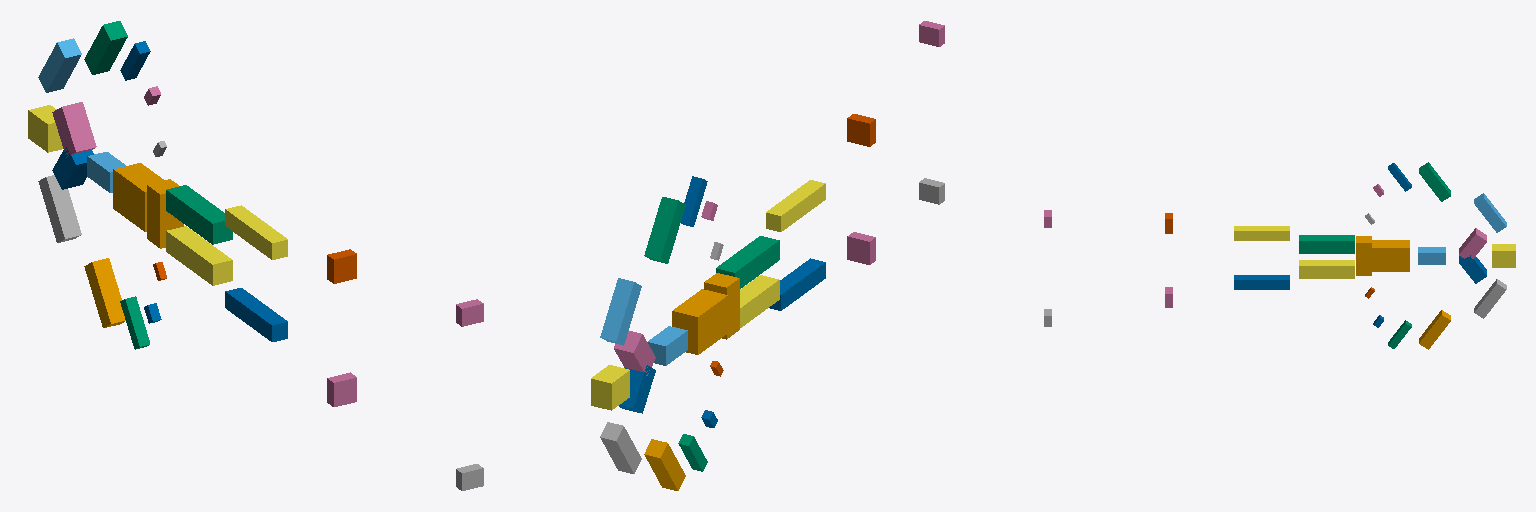
--- Render facts (derived) ---
Views: 3 orthographic renders of the robot side by side, from view 1: azimuth 30°, elevation 25°; view 2: azimuth 150°, elevation 25°; view 3: azimuth 270°, elevation 25°.
Robot: human_model — 40 links, 39 joints (39 revolute); root link human_model/pelvis_link; default pose: every joint at zero.
Links seen in each view (by area): view 1: human_model/thigh_left_link, human_model/thigh_right_link, human_model/abdomen_link, human_model/shin_right_link, human_model/shin_left_link, human_model/bicep_left_link, human_model/bicep_midjoint_left_link, human_model/scapula_right_link, human_model/pelvis_link, human_model/bicep_midjoint_right_link, human_model/bicep_right_link, human_model/head_link (+8 smaller); view 2: human_model/abdomen_link, human_model/thigh_right_link, human_model/shin_right_link, human_model/bicep_midjoint_right_link, human_model/bicep_right_link, human_model/head_link, human_model/shin_left_link, human_model/thigh_left_link, human_model/bicep_midjoint_left_link, human_model/bicep_left_link, human_model/pelvis_link, human_model/spine_link (+8 smaller); view 3: human_model/abdomen_link, human_model/thigh_left_link, human_model/thigh_right_link, human_model/shin_left_link, human_model/shin_right_link, human_model/pelvis_link, human_model/bicep_midjoint_left_link, human_model/bicep_midjoint_right_link, human_model/bicep_left_link, human_model/bicep_right_link, human_model/head_link.
Link boxes in pixels (x1,y1,x2,y2): human_model/thigh_left_link: [166, 226, 232, 285]; human_model/thigh_right_link: [166, 185, 232, 244]; human_model/abdomen_link: [113, 163, 163, 231]; human_model/shin_right_link: [225, 205, 287, 259]; human_model/shin_left_link: [225, 288, 287, 341]; human_model/bicep_left_link: [84, 258, 125, 327]; human_model/bicep_midjoint_left_link: [38, 175, 81, 242]; human_model/scapula_right_link: [52, 102, 96, 157]; human_model/pelvis_link: [147, 179, 183, 248]; human_model/bicep_midjoint_right_link: [38, 38, 81, 92]; human_model/bicep_right_link: [84, 21, 127, 74]; human_model/head_link: [28, 105, 62, 152]; human_model/abdomen_link: [672, 289, 727, 354]; human_model/thigh_right_link: [716, 236, 779, 288]; human_model/shin_right_link: [766, 180, 825, 231]; human_model/bicep_midjoint_right_link: [600, 278, 641, 345]; human_model/bicep_right_link: [644, 197, 685, 263]; human_model/head_link: [591, 365, 629, 410]; human_model/shin_left_link: [769, 258, 825, 310]; human_model/thigh_left_link: [740, 275, 779, 327]; human_model/bicep_midjoint_left_link: [600, 422, 641, 473]; human_model/bicep_left_link: [644, 439, 685, 490]; human_model/pelvis_link: [704, 273, 739, 339]; human_model/spine_link: [648, 326, 687, 365]; human_model/abdomen_link: [1372, 240, 1409, 271]; human_model/thigh_left_link: [1299, 260, 1354, 278]; human_model/thigh_right_link: [1299, 235, 1354, 253]; human_model/shin_left_link: [1234, 275, 1289, 289]; human_model/shin_right_link: [1234, 226, 1289, 240]; human_model/pelvis_link: [1356, 236, 1371, 275]; human_model/bicep_midjoint_left_link: [1474, 279, 1506, 318]; human_model/bicep_midjoint_right_link: [1474, 193, 1506, 232]; human_model/bicep_left_link: [1419, 310, 1450, 349]; human_model/bicep_right_link: [1419, 162, 1450, 201]; human_model/head_link: [1492, 244, 1515, 267].
Size in the robot's own frame: 0.3087 by 3.13 by 1.35 metres.
Geometry: primitives only (box / cylinder / sphere), no mesh files.

The robot description file, URDF, robot "human_model":
<?xml version="1.0" ?>
<robot name="human_model">
    <!--<self_collide>true</self_collide>-->
    <!--<static>false</static>-->
    <!--<pose>0 0 2 1.5708 0 0</pose>-->
    <!--<pose>0 0 2 0 -1.5708 0</pose>-->
    <link name ="human_model/pelvis_link">
        <!--<pose>0 0 0 0 0 0</pose>-->
        <!--<inertial>
            <origin
                    xyz="0.0 0.0 0.0"
                    rpy="0 0 0" />
            <mass value="5.6154"/>
        </inertial>-->
        <visual name="visual">
            <origin
                    xyz="0.0 0.0 0.0"
                    rpy="0 0 0" />
            <geometry>
                <box
                        size="0.1088 0.1088 0.23936"/>

            </geometry>
        </visual>
        <collision name="collision">
            <origin
                    xyz="0.0 0.0 0.0"
                    rpy="0 0 0" />
            <geometry>
                <box
                        size="0.1088 0.1088 0.23936"/>

            </geometry>
        </collision>
    </link>

    <!-- Left Leg -->
    <link name ="human_model/thigh_left_rotz_link">
    </link>

    <link name ="human_model/thigh_left_roty_link">
    </link>

    <link name ="human_model/thigh_left_link">
        <!--<pose>0.0 0.0 0.0 0.0 0.0 0.0</pose>-->
        <!--<inertial>
            <mass value="6.5709"/>
            <origin
                    xyz="0.0 -0.18605 0.0"
                    rpy="0 0 0" />
        </inertial>-->
        <visual name="visual">
            <origin
                    xyz="0.0 -0.18605 0.0"
                    rpy="0 0 0" />
            <geometry>
                <box size="0.093025 0.3721 0.093025"/>
                <!--size>0.2500*0.3721 1.0000*0.3721 0.2500*0.3721</size-->
            </geometry>
        </visual>
        <collision name="collision">
            <origin
                    xyz="0.0 -0.18605 0.0"
                    rpy="0 0 0" />
            <geometry>
                <box size="0.093025 0.3721 0.093025"/>
                <!--size>0.2500*0.3721 1.0000*0.3721 0.2500*0.3721</size-->
            </geometry>
        </collision>
    </link>

    <link name ="human_model/shin_left_link">
        <!--<pose>0.01649408 -0.42984016 -0.09072832 0.0 0.0 0.0</pose>-->
        <!--<inertial>
            <mass value="1.7738"/>
            <origin
                    xyz="0.0 -0.18685 0.0"
                    rpy="0 0 0" />
        </inertial>-->
        <visual name="visual">
            <origin
                    xyz="0.0 -0.18685 0.0"
                    rpy="0 0 0" />
            <geometry>
                <box size="0.07474 0.3737 0.07474"/>
                <!--size>0.2000*0.3737 1.0000*0.3737 0.2000*0.3737</size-->
            </geometry>
        </visual>
        <collision name="collision">
            <origin
                    xyz="0.0 -0.18685 0.0"
                    rpy="0 0 0" />
            <geometry>
                <box size="0.07474 0.3737 0.07474"/>
                <!--size>0.2000*0.3737 1.0000*0.3737 0.2000*0.3737</size-->
            </geometry>
        </collision>
    </link>

    <link name ="human_model/heel_left_rotz_link">
    </link>

    <link name ="human_model/heel_left_link">
        <!--<pose>0.01649408 -0.80354016 -0.09072832 0.0 0.0 0.0</pose>-->
        <!--<inertial>
            <mass value="0.5831"/>
            <origin
                    xyz="0.0216 0.0 0.0"
                    rpy="0 0 0" />
        </inertial>-->
        <visual name="visual">
            <origin
                    xyz="0.0216 0.0 0.0"
                    rpy="0 0 0" />
            <geometry>
                <box size="0.1080 0.0540 0.1080"/>
                <!--size>1.0000*0.108 0.5000*0.108 1.0000*0.108</size-->
            </geometry>
            <!--<color>1.0 0.5 0.0</color>-->
        </visual>
        <collision name="collision">
            <origin
                    xyz="0.0216 0.0 0.0"
                    rpy="0 0 0" />
            <geometry>
                <box size="0.1080 0.0540 0.1080"/>
                <!--size>1.0000*0.108 0.5000*0.108 1.0000*0.108</size-->
            </geometry>
        </collision>
    </link>

    <link name ="human_model/toe_left_link">
        <!--<pose>0.12649408 -0.80354016 -0.09072832 0.0 0.0 0.0</pose>-->
        <!--<inertial>
            <mass value="0.50"/>
            <origin
                    xyz="0.02 0.0 0.0"
                    rpy="0 0 0" />
        </inertial>-->
        <visual name="visual">
            <origin
                    xyz="0.02 0.0 0.0"
                    rpy="0 0 0" />
            <geometry>
                <box size="0.1000 0.0500 0.0800"/>
                <!--size>1.0000*0.1 0.5000*0.1 0.8000*0.1</size-->
            </geometry>
            <!--<color>1.0 0.5 0.0</color>-->
        </visual>
        <collision name="collision">
            <origin
                    xyz="0.02 0.0 0.0"
                    rpy="0 0 0" />
            <geometry>
                <box size="0.1000 0.0500 0.0800"/>
                <!--size>1.0000*0.1 0.5000*0.1 0.8000*0.1</size-->
            </geometry>
        </collision>
    </link>

    <!-- Right Leg -->
    <link name ="human_model/thigh_right_rotz_link">
        <!--<pose>0.01649408 -0.05774016 0.09072832 0.0 0.0 0.0</pose>-->
    </link>

    <link name ="human_model/thigh_right_roty_link">
    </link>

    <link name ="human_model/thigh_right_link">
        <!--<pose>0.0 0.0 0.0 0.0 0.0 0.0</pose>-->
        <!--<inertial>
            <origin
                    xyz="0.0 -0.18605 0.0"
                    rpy="0 0 0" />
            <mass value="6.5709"/>
        </inertial>-->
        <visual name="visual">
            <origin
                    xyz="0.0 -0.18605 0.0"
                    rpy="0 0 0" />
            <geometry>
                <box size="0.093025 0.3721 0.093025"/>
                <!--size>0.2500*0.3721 1.0000*0.3721 0.2500*0.3721</size-->
            </geometry>
        </visual>
        <collision name="collision">
            <origin
                    xyz="0.0 -0.18605 0.0"
                    rpy="0 0 0" />
            <geometry>
                <box size="0.093025 0.3721 0.093025"/>
                <!--size>0.2500*0.3721 1.0000*0.3721 0.2500*0.3721</size-->
            </geometry>
        </collision>
    </link>

    <link name ="human_model/shin_right_link">
        <!--<pose>0.01649408 -0.42984016 0.09072832 0.0 0.0 0.0</pose>-->
        <!--<inertial>
            <origin
                    xyz="0.0 -0.18685 0.0"
                    rpy="0 0 0" />
            <mass value="1.7738"/>
        </inertial>-->
        <visual name="visual">
            <origin
                    xyz="0.0 -0.18685 0.0"
                    rpy="0 0 0" />
            <geometry>
                <box size="0.07474 0.3737 0.07474"/>
                <!--size>0.2000*0.3737 1.0000*0.3737 0.2000*0.3737</size-->
            </geometry>
        </visual>
        <collision name="collision">
            <origin
                    xyz="0.0 -0.18685 0.0"
                    rpy="0 0 0" />
            <geometry>
                <box size="0.07474 0.3737 0.07474"/>
                <!--size>0.2000*0.3737 1.0000*0.3737 0.2000*0.3737</size-->
            </geometry>
        </collision>
    </link>

    <link name ="human_model/heel_right_rotz_link">
    </link>

    <link name ="human_model/heel_right_link">
        <!--<pose>0.01649408 -0.80354016 0.09072832 0.0 0.0 0.0</pose>-->
        <!--<inertial>
            <mass value="0.5831"/>
            <origin
                    xyz="0.0216 0.0 0.0"
                    rpy="0 0 0" />
        </inertial>-->
        <visual name="visual">
            <origin
                    xyz="0.0216 0.0 0.0"
                    rpy="0 0 0" />
            <geometry>
                <box size="0.1080 0.0540 0.1080"/>
                <!--size>1.0000*0.108 0.5000*0.108 1.0000*0.108</size-->
            </geometry>
            <!--<color>1.0 0.5 0.0</color>-->
        </visual>
        <collision name="collision">
            <origin
                    xyz="0.0 0.0 0.0"
                    rpy="0 0 0" />
            <geometry>
                <box size="0.1080 0.0540 0.1080"/>
                <!--size>1.0000*0.108 0.5000*0.108 1.0000*0.108</size-->
            </geometry>
        </collision>
    </link>

    <link name ="human_model/toe_right_link">
        <!--<pose>0.12649408 -0.80354016 0.09072832 0.0 0.0 0.0</pose>-->
        <!--<inertial>
            <mass value="0.50"/>
            <origin
                    xyz="0.02 0.0 0.0"
                    rpy="0 0 0" />
        </inertial>-->
        <visual name="visual">
            <origin
                    xyz="0.02 0.0 0.0"
                    rpy="0 0 0" />
            <geometry>
                <box size="0.1000 0.0500 0.0800"/>
                <!--size>1.0000*0.1 0.5000*0.1 0.8000*0.1</size-->
            </geometry>
            <!--<color>1.0 0.5 0.0</color>-->
        </visual>
        <collision name="collision">
            <origin
                    xyz="0.02 0.0 0.0"
                    rpy="0 0 0" />
            <geometry>
                <box size="0.1000 0.0500 0.0800"/>
                <!--size>1.0000*0.1 0.5000*0.1 0.8000*0.1</size-->
            </geometry>
        </collision>
    </link>

    <!-- Upper link -->
    <link name ="human_model/abdomen_rotx_link">
    </link>

    <link name ="human_model/abdomen_link">
        <!--<pose>0.0 0.0562 0.0 0.0 0.0 0.0</pose>-->
        <!--<inertial>
            <mass value="4.1846"/>
            <origin
                    xyz="0.0 0.12535 0.0"
                    rpy="0 0 0" />
        </inertial>-->
        <visual name="visual">
            <origin
                    xyz="0.0 0.12535 0.0"
                    rpy="0 0 0" />
            <geometry>
                <box size="0.12535 0.2507 0.17549"/>
                <!--size>0.5000*0.2507 1.0000*0.2507 0.7000*0.2507</size-->
            </geometry>
        </visual>
        <collision name="collision">
            <origin
                    xyz="0.0 0.12535 0.0"
                    rpy="0 0 0" />
            <geometry>
                <box size="0.12535 0.2507 0.17549"/>
                <!--size>0.5000*0.2507 1.0000*0.2507 0.7000*0.2507</size-->
            </geometry>
        </collision>
    </link>

    <link name ="human_model/spine_link">
        <!--<pose>0.0 0.3069 0.0 0.0 0.0 0.0</pose>-->
        <!--<inertial>
            <mass value="4.8608"/>
            <origin
                    xyz="0.0 0.0908 0.0"
                    rpy="0 0 0" />
        </inertial>-->
        <visual name="visual">
            <origin
                    xyz="0.0 0.0908 0.0"
                    rpy="0 0 0" />
            <geometry>
                <box size="0.0908 0.1816 0.0908"/>
                <!--size>0.5000*0.1816 1.0000*0.1816 0.5000*0.1816</size-->
            </geometry>
        </visual>
        <collision name="collision">
            <origin
                    xyz="0.0 0.0908 0.0"
                    rpy="0 0 0" />
            <geometry>
                <box size="0.0908 0.1816 0.0908"/>
                <!--size>0.5000*0.1816 1.0000*0.1816 0.5000*0.1816</size-->
            </geometry>
        </collision>
    </link>

    <link name ="human_model/head_rotz_link">
    </link>

    <link name ="human_model/head_link">
        <pose>0.0 0.4885 0.0 0.0 0.0 0.0</pose>
        <!--<inertial>
            <mass value="3.92"/>
            <origin
                    xyz="0.0 0.07825 0.0"
                    rpy="0 0 0" />
        </inertial>-->
        <visual name="visual">
            <origin
                    xyz="0.0 0.07825 0.0"
                    rpy="0 0 0" />
            <geometry>
                <box size="0.101725 0.1565 0.1252"/>
                <!--size>0.6500*0.1565 1.0000*0.1565 0.8000*0.1565</size-->
            </geometry>
            <!--<color>1.0 0.5 0.0</color>-->
        </visual>
        <collision name="collision">
            <origin
                    xyz="0.0 0.07825 0.0"
                    rpy="0 0 0" />
            <geometry>
                <box size="0.101725 0.1565 0.1252"/>
                <!--size>0.6500*0.1565 1.0000*0.1565 0.8000*0.1565</size-->
            </geometry>
        </collision>
    </link>

    <!-- Left Arm -->
    <link name ="human_model/scapula_left_link">
        <!--<pose>0.0 0.3069 0.0 -0.9423 0.0 0.0</pose>-->
        <!--<inertial>
            <mass value="2.6264"/>
            <origin
                    xyz="0.0 0.09615 0.0"
                    rpy="0 0 0" />
        </inertial>-->
        <visual name="visual">
            <origin
                    xyz="0.0 0.09615 0.0"
                    rpy="0 0 0" />
            <geometry>
                <box size="0.09615 0.1923 0.09615"/>
                <!--size>0.5000*0.1923 1.0000*0.1923 0.5000*0.1923</size-->
            </geometry>
        </visual>
        <collision name="collision">
            <origin
                    xyz="0.0 0.09615 0.0"
                    rpy="0 0 0" />
            <geometry>
                <box size="0.09615 0.1923 0.09615"/>
                <!--size>0.5000*0.1923 1.0000*0.1923 0.5000*0.1923</size-->
            </geometry>
        </collision>
    </link>

    <link name ="human_model/bicep_midjoint_left_rotx_link">
    </link>

    <link name ="human_model/bicep_midjoint_left_roty_link">
    </link>

    <link name ="human_model/bicep_midjoint_left_link">
        <!--<pose>0.0 0.397146 -0.169809 0.0 0.0 0.0</pose>-->
        <!--<inertial>
            <mass value="1.6219"/>
            <origin
                    xyz="0.0 -0.1308 0.0"
                    rpy="0 0 0" />
        </inertial>-->
        <visual name="visual">
            <origin
                    xyz="0.0 -0.1308 0.0"
                    rpy="0 0 0" />
            <geometry>
                <box size="0.07848 0.2616 0.07848"/>
                <!--size>0.3000*0.2616 1.0000*0.2616 0.3000*0.2616</size-->
            </geometry>
        </visual>
        <collision name="collision">
            <origin
                    xyz="0.0 -0.1308 0.0"
                    rpy="0 0 0" />
            <geometry>
                <box size="0.07848 0.2616 0.07848"/>
                <!--size>0.3000*0.2616 1.0000*0.2616 0.3000*0.2616</size-->
            </geometry>
        </collision>
    </link>

    <link name ="human_model/bicep_left_link">
        <!--<pose>0.0 0.397146 -0.169809 0.0 0.0 0.0</pose>-->
        <!--<inertial>
            <mass value="1.6219"/>
            <origin
                    xyz="0.0 -0.1308 0.0"
                    rpy="0 0 0" />
        </inertial>-->
        <visual name="visual">
            <origin
                    xyz="0.0 -0.1308 0.0"
                    rpy="0 0 0" />
            <geometry>
                <box size="0.07848 0.2616 0.07848"/>
                <!--size>0.3000*0.2616 1.0000*0.2616 0.3000*0.2616</size-->
            </geometry>
        </visual>
        <collision name="collision">
            <origin
                    xyz="0.0 -0.1308 0.0"
                    rpy="0 0 0" />
            <geometry>
                <box size="0.07848 0.2616 0.07848"/>
                <!--size>0.3000*0.2616 1.0000*0.2616 0.3000*0.2616</size-->
            </geometry>
        </collision>
    </link>

    <link name ="human_model/forearm_left_rotz_link">
    </link>

    <link name ="human_model/forearm_left_link">
        <!--<pose>0.0 0.135546 -0.169809 0.0 0.0 0.0</pose>-->
        <!--<inertial>
            <mass value="0.6909"/>
            <origin
                    xyz="0.0 -0.1012 0.0"
                    rpy="0 0 0" />
        </inertial>-->
        <visual name="visual">
            <origin
                    xyz="0.0 -0.1012 0.0"
                    rpy="0 0 0" />
            <geometry>
                <box size="0.0506 0.2024 0.0506"/>
                <!--size>0.2500*0.2024 1.0000*0.2024 0.2500*0.2024</size-->
            </geometry>
        </visual>
        <collision name="collision">
            <origin
                    xyz="0.0 -0.1012 0.0"
                    rpy="0 0 0" />
            <geometry>
                <box size="0.0506 0.2024 0.0506"/>
                <!--size>0.2500*0.2024 1.0000*0.2024 0.2500*0.2024</size-->
            </geometry>
        </collision>
    </link>

    <link name ="human_model/hand_left_rotz_link">
    </link>

    <link name ="human_model/hand_left_link">
        <!--<pose>0.0 -0.066854 -0.169809 0.0 0.0 0.0</pose>-->
        <!--<inertial>
            <mass value="0.175"/>
            <origin
                    xyz="0.0 -0.035 0.0"
                    rpy="0 0 0" />
        </inertial>-->
        <visual name="visual">
            <origin
                    xyz="0.0 -0.035 0.0"
                    rpy="0 0 0" />
            <geometry>
                <box
                        size="0.04 0.07 0.04"/>

            </geometry>
            <!--<color>1.0 0.5 0.0</color>-->
        </visual>
        <collision name="collision">
            <origin
                    xyz="0.0 -0.035 0.0"
                    rpy="0 0 0" />
            <geometry>
                <box
                        size="0.04 0.07 0.04"/>

            </geometry>
        </collision>
    </link>

    <link name ="human_model/hand2_left_link">
        <!--<pose>0.0 -0.137 -0.169809 0.0 0.0 0.0</pose>-->
        <!--<inertial>
            <mass value="0.12"/>
            <origin
                    xyz="0.0 -0.035 0.0"
                    rpy="0 0 0" />
        </inertial>-->
        <visual name="visual">
            <origin
                    xyz="0.0 -0.035 0.0"
                    rpy="0 0 0" />
            <geometry>
                <box
                        size="0.03 0.07 0.03"/>

            </geometry>
            <!--<color>1.0 0.5 0.0</color>-->
        </visual>
        <collision name="collision">
            <origin
                    xyz="0.0 -0.035 0.0"
                    rpy="0 0 0" />
            <geometry>
                <box
                        size="0.03 0.07 0.03"/>

            </geometry>
        </collision>
    </link>

    <!-- Right Arm -->
    <link name ="human_model/scapula_right_link">
        <!--<pose>0.0 0.3069 0.0 0.9423 0.0 0.0</pose>-->
        <!--<inertial>
            <mass value="2.6264"/>
            <origin
                    xyz="0.0 0.09615 0.0"
                    rpy="0 0 0" />
        </inertial>-->
        <visual name="visual">
            <origin
                    xyz="0.0 0.09615 0.0"
                    rpy="0 0 0" />
            <geometry>
                <box size="0.09615 0.1923 0.09615"/>
                <!--size>0.5000*0.1923 1.0000*0.1923 0.5000*0.1923</size-->
            </geometry>
        </visual>
        <collision name="collision">
            <origin
                    xyz="0.0 0.09615 0.0"
                    rpy="0 0 0" />
            <geometry>
                <box size="0.09615 0.1923 0.09615"/>
                <!--size>0.5000*0.1923 1.0000*0.1923 0.5000*0.1923</size-->
            </geometry>
        </collision>
    </link>

    <link name ="human_model/bicep_midjoint_right_rotx_link">
    </link>

    <link name ="human_model/bicep_midjoint_right_roty_link">
    </link>

    <link name ="human_model/bicep_midjoint_right_link">
        <!--<inertial>
            <mass value="1.6219"/>
            <origin
                    xyz="0.0 -0.1308 0.0"
                    rpy="0 0 0" />
        </inertial>-->
        <visual name="visual">
            <origin
                    xyz="0.0 -0.1308 0.0"
                    rpy="0 0 0" />
            <geometry>
                <box size="0.07848 0.2616 0.07848"/>
                <!--size>0.3000*0.2616 1.0000*0.2616 0.3000*0.2616</size-->
            </geometry>
        </visual>
        <collision name="collision">
            <origin
                    xyz="0.0 -0.1308 0.0"
                    rpy="0 0 0" />
            <geometry>
                <box size="0.07848 0.2616 0.07848"/>
                <!--size>0.3000*0.2616 1.0000*0.2616 0.3000*0.2616</size-->
            </geometry>
        </collision>
    </link>

    <link name ="human_model/bicep_right_link">
        <!--<inertial>
            <mass value="1.6219"/>
            <origin
                    xyz="0.0 -0.1308 0.0"
                    rpy="0 0 0" />
        </inertial>-->
        <visual name="visual">
            <origin
                    xyz="0.0 -0.1308 0.0"
                    rpy="0 0 0" />
            <geometry>
                <box size="0.07848 0.2616 0.07848"/>
                <!--size>0.3000*0.2616 1.0000*0.2616 0.3000*0.2616</size-->
            </geometry>
        </visual>
        <collision name="collision">
            <origin
                    xyz="0.0 -0.1308 0.0"
                    rpy="0 0 0" />
            <geometry>
                <box size="0.07848 0.2616 0.07848"/>
                <!--size>0.3000*0.2616 1.0000*0.2616 0.3000*0.2616</size-->
            </geometry>
        </collision>
    </link>

    <link name ="human_model/forearm_right_rotz_link">
    </link>

    <link name ="human_model/forearm_right_link">
        <!--<pose>0.0 0.135546 0.169809 0.0 0.0 0.0</pose>-->
        <!--<inertial>
            <mass value="0.6909"/>
            <origin
                    xyz="0.0 -0.1012 0.0"
                    rpy="0 0 0" />
        </inertial>-->
        <visual name="visual">
            <origin
                    xyz="0.0 -0.1012 0.0"
                    rpy="0 0 0" />
            <geometry>
                <box size="0.0506 0.2024 0.0506"/>
                <!--size>0.2500*0.2024 1.0000*0.2024 0.2500*0.2024</size-->
            </geometry>
        </visual>
        <collision name="collision">
            <origin
                    xyz="0.0 -0.1012 0.0"
                    rpy="0 0 0" />
            <geometry>
                <box size="0.0506 0.2024 0.0506"/>
                <!--size>0.2500*0.2024 1.0000*0.2024 0.2500*0.2024</size-->
            </geometry>
        </collision>
    </link>

    <link name ="human_model/hand_right_rotz_link">
    </link>

    <link name ="human_model/hand_right_link">
        <!--<pose>0.0 -0.066854 0.169809 0.0 0.0 0.0</pose>-->
        <!--<inertial>
            <mass value="0.175"/>
            <origin
                    xyz="0.0 -0.035 0.0"
                    rpy="0 0 0" />
        </inertial>-->
        <visual name="visual">
            <origin
                    xyz="0.0 -0.035 0.0"
                    rpy="0 0 0" />
            <geometry>
                <box size="0.04 0.07 0.04"/>

            </geometry>
            <!--<color>1.0 0.5 0.0</color>-->
        </visual>
        <collision name="collision">
            <origin
                    xyz="0.0 -0.035 0.0"
                    rpy="0 0 0" />
            <geometry>
                <box size="0.04 0.07 0.04"/>

            </geometry>
        </collision>
    </link>

    <link name ="human_model/hand2_right_link">
        <!--<pose>0.0 -0.137 0.169809 0.0 0.0 0.0</pose>-->
        <!--<inertial>
            <mass value="0.12"/>
            <origin
                    xyz="0.0 -0.035 0.0"
                    rpy="0 0 0" />
        </inertial>-->
        <visual name="visual">
            <origin
                    xyz="0.0 -0.035 0.0"
                    rpy="0 0 0" />
            <geometry>
                <box
                        size="0.03 0.07 0.03"/>

            </geometry>
            <!--<color>1.0 0.5 0.0</color>-->
        </visual>
        <collision name="collision">
            <origin
                    xyz="0.0 -0.035 0.0"
                    rpy="0 0 0" />
            <geometry>
                <box
                        size="0.03 0.07 0.03"/>

            </geometry>
        </collision>
    </link>


    <!-- JOINT: Pelvis -->
    <!--<joint type="ball" name="j_pelvis">-->
    <!--<parent>world</parent>-->
    <!--<child>h_head</child>-->
    <!--&lt;!&ndash;<init_pos>0 0 0 0 0 0</init_pos>&ndash;&gt;-->
    <!--&lt;!&ndash;<init_vel>0 0 0 0 0 0</init_vel>&ndash;&gt;-->
    <!--</joint>-->

    <!-- JOINT: Left Leg -->
    <joint type="revolute" name="human_model/pelvis_thigh_left_z_joint">
        <origin
                xyz="0.01649408 -0.05774016 -0.09072832"
                rpy="0 0 0" />
        <parent link ="human_model/pelvis_link"/>
        <child link ="human_model/thigh_left_rotz_link"/>
        <axis
                xyz="0 0 1" />
        <limit effort="0" velocity="0"
               lower="-3.14159"
               upper="3.14159" />
    </joint>

    <joint type="revolute" name="human_model/pelvis_thigh_left_y_joint">
        <origin
                xyz="0 0 0"
                rpy="0 0 0" />
        <parent link ="human_model/thigh_left_rotz_link"/>
        <child link ="human_model/thigh_left_roty_link"/>
        <axis
                xyz="0 1 0" />
        <limit effort="0" velocity="0"
               lower="-0.75"
               upper="0.75" />
    </joint>

    <joint type="revolute" name="human_model/pelvis_thigh_left_x_joint">
        <origin
                xyz="0 0 0"
                rpy="0 0 0" />
        <parent link ="human_model/thigh_left_roty_link"/>
        <child link ="human_model/thigh_left_link"/>
        <axis
                xyz="1 0 0" />
        <limit effort="0" velocity="0"
               lower="-3.14159"
               upper="3.14159" />
    </joint>

    <joint type="revolute" name="human_model/thigh_shin_left_joint">
        <origin
                xyz="0.01649408 -0.42984016 -0.09072832"
                rpy="0 0 0" />
        <parent link ="human_model/thigh_left_link"/>
        <child link ="human_model/shin_left_link"/>
        <axis
                xyz="0 0 1" />
        <limit effort="0" velocity="0"
               lower="-2.6416"
               upper="0" />
        <!--<init_pos>-0.17</init_pos>-->
        <!--<init_vel>0</init_vel>-->
    </joint>

    <joint type="revolute" name="human_model/shin_heel_left_z_joint">
        <origin
                xyz="0.01649408 -0.80354016 -0.09072832"
                rpy="0 0 0" />
        <parent link ="human_model/shin_left_link"/>
        <child link ="human_model/heel_left_rotz_link"/>
        <axis
                xyz="0.0 0.0 1.0"/>
        <limit effort="0" velocity="0"
               lower="-1.136"
               upper="0.350"/>
        <!--<init_pos>0 0</init_pos>-->
        <!--<init_vel>0 0</init_vel>-->
    </joint>

    <joint type="revolute" name="human_model/shin_heel_left_y_joint">
        <origin
                xyz="0 0 0"
                rpy="0 0 0" />
        <parent link ="human_model/heel_left_rotz_link"/>
        <child link ="human_model/heel_left_link"/>
        <axis
                xyz="0.0 1.0 0.0"/>
        <limit effort="0" velocity="0"
               lower="-0.2854"
               upper="0.3854"/>
        <!--<init_pos>0 0</init_pos>-->
        <!--<init_vel>0 0</init_vel>-->
    </joint>

    <joint type="revolute" name="human_model/heel_toe_left_joint">
        <origin
                xyz="0.12649408 -0.80354016 -0.09072832"
                rpy="0 0 0" />
        <parent link ="human_model/heel_left_link"/>
        <child link ="human_model/toe_left_link"/>
        <axis
                xyz="0 0 1" />
        <limit effort="0" velocity="0"
               lower="-0.4236"
               upper="0.5536"/>
        <!--<init_pos>0</init_pos>-->
        <!--<init_vel>0</init_vel>-->
    </joint>

    <!-- JOINT: Right Leg -->
    <joint type="revolute" name="human_model/pelvis_thigh_right_z_joint">
        <origin
                xyz="0.01649408 -0.05774016 0.09072832"
                rpy="0 0 0" />
        <parent link ="human_model/pelvis_link"/>
        <child link ="human_model/thigh_right_rotz_link"/>
        <axis
                xyz="0 0 1" />
        <limit effort="0" velocity="0"
               lower="-3.14159"
               upper="3.14159" />
    </joint>

    <joint type="revolute" name="human_model/pelvis_thigh_right_y_joint">
        <origin
                xyz="0 0 0"
                rpy="0 0 0" />
        <parent link ="human_model/thigh_right_rotz_link"/>
        <child link ="human_model/thigh_right_roty_link"/>
        <axis
                xyz="0 1 0" />
        <limit effort="0" velocity="0"
               lower="-0.75"
               upper="0.75" />
    </joint>

    <joint type="revolute" name="human_model/pelvis_thigh_right_x_joint">
        <origin
                xyz="0 0 0"
                rpy="0 0 0" />
        <parent link ="human_model/thigh_right_roty_link"/>
        <child link ="human_model/thigh_right_link"/>
        <axis
                xyz="1 0 0" />
        <limit effort="0" velocity="0"
               lower="-3.14159"
               upper="3.14159" />
    </joint>

    <joint type="revolute" name="human_model/thigh_shin_right_joint">
        <origin
                xyz="0.01649408 -0.42984016 0.09072832"
                rpy="0 0 0" />
        <parent link ="human_model/thigh_right_link"/>
        <child link ="human_model/shin_right_link"/>
        <axis
                xyz="0 0 1" />
        <limit effort="0" velocity="0"
               lower="-2.6416"
               upper="0" />
        <!--<init_pos>-0.17</init_pos>-->
        <!--<init_vel>0</init_vel>-->
    </joint>

    <joint type="revolute" name="human_model/shin_heel_right_z_joint">
        <origin
                xyz="0.01649408 -0.80354016 0.09072832"
                rpy="0 0 0" />
        <parent link ="human_model/shin_right_link"/>
        <child link ="human_model/heel_right_rotz_link"/>
        <axis
                xyz="0.0 0.0 1.0"/>
        <limit effort="0" velocity="0"
               lower="-1.136"
               upper="0.350"/>
        <!--<init_pos>0 0</init_pos>-->
        <!--<init_vel>0 0</init_vel>-->
    </joint>

    <joint type="revolute" name="human_model/shin_heel_right_y_joint">
        <origin
                xyz="0 0 0"
                rpy="0 0 0" />
        <parent link ="human_model/heel_right_rotz_link"/>
        <child link ="human_model/heel_right_link"/>
        <axis
                xyz="0.0 1.0 0.0"/>
        <limit effort="0" velocity="0"
               lower="-0.2854"
               upper="0.3854"/>
        <!--<init_pos>0 0</init_pos>-->
        <!--<init_vel>0 0</init_vel>-->
    </joint>

    <joint type="revolute" name="human_model/shin_heel_toe_right_joint">
        <origin
                xyz="0.12649408 -0.80354016 0.09072832"
                rpy="0 0 0" />
        <parent link ="human_model/heel_right_link"/>
        <child link ="human_model/toe_right_link"/>
        <axis
                xyz="0 0 1" />
        <limit effort="0" velocity="0"
               lower="-0.4236"
               upper="0.5536"/>
        <!--<init_pos>0</init_pos>-->
        <!--<init_vel>0</init_vel>-->
    </joint>

    <!-- -->
    <joint type="revolute" name="human_model/pelvis_abdomen_x_joint">
        <origin
                xyz="0.0 0.0562 0.0"
                rpy="0 0 0" />
        <parent link ="human_model/pelvis_link"/>
        <child link ="human_model/abdomen_rotx_link"/>
        <axis
                xyz="1.0 0.0 0.0"/>
        <limit effort="0" velocity="0"
               lower="-0.5"
               upper="0.5"/>
        <!--<init_pos>0 0</init_pos>-->
        <!--<init_vel>0 0</init_vel>-->
    </joint>

    <joint type="revolute" name="human_model/pelvis_abdomen_z_joint">
        <origin
                xyz="0 0 0"
                rpy="0 0 0" />
        <parent link ="human_model/abdomen_rotx_link"/>
        <child link ="human_model/abdomen_link"/>
        <axis
                xyz="0.0 0.0 1.0"/>
        <limit effort="0" velocity="0"
               lower="-0.85"
               upper="0.5"/>
        <!--<init_pos>0 0</init_pos>-->
        <!--<init_vel>0 0</init_vel>-->
    </joint>

    <joint type="revolute" name="human_model/abdomen_spine_joint">
        <origin
                xyz="0.0 0.3069 0.0"
                rpy="0 0 0" />
        <parent link ="human_model/abdomen_link"/>
        <child link ="human_model/spine_link"/>
        <axis
                xyz="0 1 0" />
        <limit effort="0" velocity="0"
               lower="-1.0"
               upper="1.0" />
        <!--<init_pos>-0.17</init_pos>-->
        <!--<init_vel>0</init_vel>-->
    </joint>

    <joint type="revolute" name="human_model/spine_head_z_joint">
        <origin
                xyz="0.0 0.4885 0.0"
                rpy="0 0 0" />
        <parent link ="human_model/spine_link"/>
        <child link ="human_model/head_rotz_link"/>
        <axis
                xyz="0.0 0.0 1.0"/>
        <limit effort="0" velocity="0"
               lower="-1.0472"
               upper="1.0472"/>
        <!--<init_pos>0 0</init_pos>-->
        <!--<init_vel>0 0</init_vel>-->
    </joint>

    <joint type="revolute" name="human_model/spine_head_x_joint">
        <origin
                xyz="0 0 0"
                rpy="0 0 0" />
        <parent link ="human_model/head_rotz_link"/>
        <child link ="human_model/head_link"/>
        <axis
                xyz="1.0 0.0 0.0"/>
        <limit effort="0" velocity="0"
               lower="-1.0472"
               upper="1.0472"/>
        <!--<init_pos>0 0</init_pos>-->
        <!--<init_vel>0 0</init_vel>-->
    </joint>

    <!-- JOINT: Left Arm -->
    <joint type="revolute" name="human_model/spine_scapula_left_joint">
        <origin
                xyz="0.0 0.3069 0.0"
                rpy="-0.9423 0.0 0.0" />
        <parent link ="human_model/spine_link"/>
        <child link ="human_model/scapula_left_link"/>
        <axis
                xyz="1.0 0.0 0.0"/>
        <limit effort="0" velocity="0"
               lower="-0.2491"
               upper="0.2491"/>
    </joint>

    <joint type="revolute" name="human_model/scapula_bicep_midjoint_left_x_joint">
        <origin
                xyz="0.0 0.397146 -0.169809"
                rpy="-1.2423 0 0" />
        <parent link ="human_model/scapula_left_link"/>
        <child link ="human_model/bicep_midjoint_left_rotx_link"/>
        <axis
                xyz="1 0 0" />
        <limit effort="0" velocity="0"
               lower="-0.65"
               upper="2.7" />
    </joint>

    <joint type="revolute" name="human_model/scapula_bicep_midjoint_left_y_joint">
        <origin
                xyz="0 0 0"
                rpy="0 0 0" />
        <parent link ="human_model/bicep_midjoint_left_rotx_link"/>
        <child link ="human_model/bicep_midjoint_left_roty_link"/>
        <axis
                xyz="0 1 0" />
        <limit effort="0" velocity="0"
               lower="-3.14159"
               upper="1.7" />
    </joint>

    <joint type="revolute" name="human_model/scapula_bicep_midjoint_left_z_joint">
        <origin
                xyz="0 0 0"
                rpy="0 0 0" />
        <parent link ="human_model/bicep_midjoint_left_roty_link"/>
        <child link ="human_model/bicep_midjoint_left_link"/>
        <axis
                xyz="0 0 1" />
        <limit effort="0" velocity="0"
               lower="-0.001"
               upper="0.001" />
    </joint>

    <joint type="revolute" name="human_model/bicep_midjoint_bicep_left_joint">
        <origin
                xyz="0.0 0.397146 -0.169809"
                rpy="0 0 0" />
        <parent link ="human_model/bicep_midjoint_left_link"/>
        <child link ="human_model/bicep_left_link"/>
        <axis
                xyz="0 1 0" />
        <limit effort="0" velocity="0"
               lower="-1.3"
               upper="0.7" />
    </joint>

    <joint type="revolute" name="human_model/bicep_forearm_left_z_joint">
        <origin
                xyz="0.0 0.135546 -0.169809"
                rpy="0 0 0" />
        <parent link ="human_model/bicep_left_link"/>
        <child link ="human_model/forearm_left_rotz_link"/>
        <axis
                xyz="0.0 0.0 1.0"/>
        <limit effort="0" velocity="0"
               lower="0"
               upper="2.7"/>
        <!--<init_pos>0 0</init_pos>-->
        <!--<init_vel>0 0</init_vel>-->
    </joint>

    <joint type="revolute" name="human_model/bicep_forearm_left_y_joint">
        <origin
                xyz="0 0 0"
                rpy="0 0 0" />
        <parent link ="human_model/forearm_left_rotz_link"/>
        <child link ="human_model/forearm_left_link"/>
        <axis
                xyz="0.0 1.0 0.0"/>
        <limit effort="0" velocity="0"
               lower="-3.0"
               upper="0.0"/>
    </joint>

    <joint type="revolute" name="human_model/forearm_hand_left_z_joint">
        <origin
                xyz="0.0 -0.066854 -0.169809"
                rpy="0 0 0" />
        <parent link ="human_model/forearm_left_link"/>
        <child link ="human_model/hand_left_rotz_link"/>
        <axis
                xyz="0.0 0.0 1.0"/>
        <limit effort="0" velocity="0"
               lower="-1.2"
               upper="1.5"/>
    </joint>

    <joint type="revolute" name="human_model/forearm_hand_left_x_joint">
        <origin
                xyz="0 0 0"
                rpy="0 0 0" />
        <parent link ="human_model/hand_left_rotz_link"/>
        <child link ="human_model/hand_left_link"/>
        <axis
                xyz="1.0 0.0 0.0"/>
        <limit effort="0" velocity="0"
               lower="-0.5"
               upper="0.5"/>
    </joint>

    <joint type="revolute" name="human_model/hand_hand2_left_joint">
        <origin
                xyz="0.0 -0.137 -0.169809"
                rpy="0 0 0" />
        <parent link ="human_model/hand_left_link"/>
        <child link ="human_model/hand2_left_link"/>
        <axis
                xyz="0.0 0.0 1.0"/>
        <limit effort="0" velocity="0"
               lower="-0.5"
               upper="1.6"/>
    </joint>

    <!-- JOINT: Right Arm -->
    <joint type="revolute" name="human_model/spine_scapula_right_joint">
        <origin
                xyz="0.0 0.3069 0.0"
                rpy="0.9423 0.0 0.0" />
        <parent link ="human_model/spine_link"/>
        <child link ="human_model/scapula_right_link"/>
        <axis
                xyz="1.0 0.0 0.0"/>
        <limit effort="0" velocity="0"
               lower="-0.2491"
               upper="0.2491"/>
    </joint>

    <joint type="revolute" name="human_model/scapula_bicep_midjoint_right_x_joint">
        <origin
                xyz="0.0 0.397146 0.169809"
                rpy="1.2423 0 0" />
        <parent link ="human_model/scapula_right_link"/>
        <child link ="human_model/bicep_midjoint_right_rotx_link"/>
        <axis
                xyz="1 0 0" />
        <limit effort="0" velocity="0"
               lower="-2.7"
               upper="0.65" />
    </joint>

    <joint type="revolute" name="human_model/scapula_bicep_midjoint_right_y_joint">
        <origin
                xyz="0 0 0"
                rpy="0 0 0" />
        <parent link ="human_model/bicep_midjoint_right_rotx_link"/>
        <child link ="human_model/bicep_midjoint_right_roty_link"/>
        <axis
                xyz="0 1 0" />
        <limit effort="0" velocity="0"
               lower="-1.7"
               upper="3.14159" />
    </joint>

    <joint type="revolute" name="human_model/scapula_bicep_midjoint_right_z_joint">
        <origin
                xyz="0 0 0"
                rpy="0 0 0" />
        <parent link ="human_model/bicep_midjoint_right_roty_link"/>
        <child link ="human_model/bicep_midjoint_right_link"/>
        <axis
                xyz="0 0 1" />
        <limit effort="0" velocity="0"
               lower="-0.001"
               upper="0.001" />
    </joint>

    <joint type="revolute" name="human_model/bicep_midjoint_bicep_right_joint">
        <origin
                xyz="0.0 0.397146 0.169809"
                rpy="0 0 0" />
        <parent link ="human_model/bicep_midjoint_right_link"/>
        <child link ="human_model/bicep_right_link"/>
        <axis
                xyz="0 1 0" />
        <limit effort="0" velocity="0"
               lower="-0.7"
               upper="1.3" />
    </joint>

    <joint type="revolute" name="human_model/bicep_forearm_right_z_joint">
        <origin
                xyz="0.0 0.135546 0.169809"
                rpy="0 0 0" />
        <parent link ="human_model/bicep_right_link"/>
        <child link ="human_model/forearm_right_rotz_link"/>
        <axis
                xyz="0.0 0.0 1.0"/>
        <limit effort="0" velocity="0"
               lower="0"
               upper="2.7"/>
        <!--<init_pos>0 0</init_pos>-->
        <!--<init_vel>0 0</init_vel>-->
    </joint>

    <joint type="revolute" name="human_model/bicep_forearm_right_y_joint">
        <origin
                xyz="0 0 0"
                rpy="0 0 0" />
        <parent link ="human_model/forearm_right_rotz_link"/>
        <child link ="human_model/forearm_right_link"/>
        <axis
                xyz="0.0 1.0 0.0"/>
        <limit effort="0" velocity="0"
               lower="0.0"
               upper="3.0"/>
    </joint>

    <joint type="revolute" name="human_model/forearm_hand_right_z_joint">
        <origin
                xyz="0.0 -0.066854 0.169809"
                rpy="0 0 0" />
        <parent link ="human_model/forearm_right_link"/>
        <child link ="human_model/hand_right_rotz_link"/>
        <axis
                xyz="0.0 0.0 1.0"/>
        <limit effort="0" velocity="0"
               lower="-1.2"
               upper="1.5"/>
    </joint>

    <joint type="revolute" name="human_model/forearm_hand_right_x_joint">
        <origin
                xyz="0 0 0"
                rpy="0 0 0" />
        <parent link ="human_model/hand_right_rotz_link"/>
        <child link ="human_model/hand_right_link"/>
        <axis
                xyz="1.0 0.0 0.0"/>
        <limit effort="0" velocity="0"
               lower="-0.5"
               upper="0.5"/>
    </joint>

    <joint type="revolute" name="human_model/hand_hand2_right_joint">
        <origin
                xyz="0.0 -0.137 0.169809"
                rpy="0 0 0" />
        <parent link ="human_model/hand_right_link"/>
        <child link ="human_model/hand2_right_link"/>
        <axis
                xyz="0.0 0.0 1.0"/>
        <limit effort="0" velocity="0"
               lower="-0.5"
               upper="1.6"/>
    </joint>

</robot>
